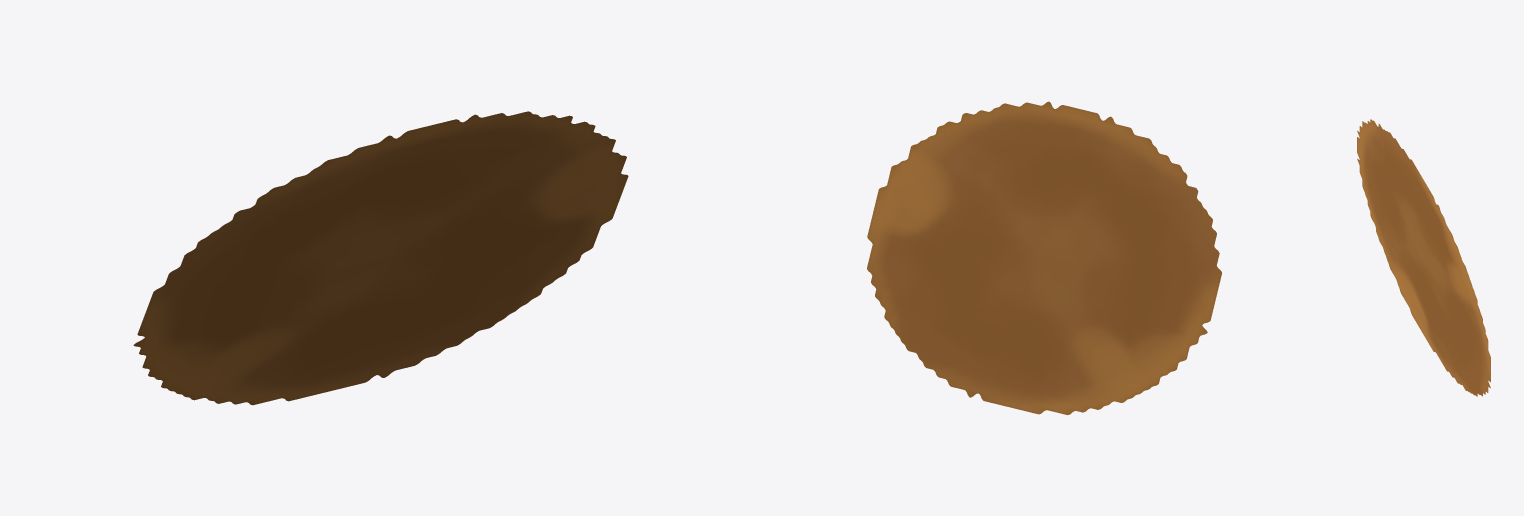
File: billboards.glb
3 views of the same model, side by side, from view 1: azimuth 30°, elevation 25°; view 2: azimuth 150°, elevation 25°; view 3: azimuth 270°, elevation 25° (orthographic). The views are drawn at different scales.
Visible parts, largest first — view 1: rsrc.world.tileset.clockworks.billboards-Submesh[0]; view 2: rsrc.world.tileset.clockworks.billboards-Submesh[0]; view 3: rsrc.world.tileset.clockworks.billboards-Submesh[0].
Part boxes in pixels (x1,y1,x2,y2): rsrc.world.tileset.clockworks.billboards-Submesh[0]: (133, 111, 628, 405); rsrc.world.tileset.clockworks.billboards-Submesh[0]: (867, 101, 1221, 414); rsrc.world.tileset.clockworks.billboards-Submesh[0]: (1357, 119, 1490, 396).
Size of the model in its own units: 0.2927 by 0.1995 by 0.1067.
Materials: 1 (1 with a texture image).
